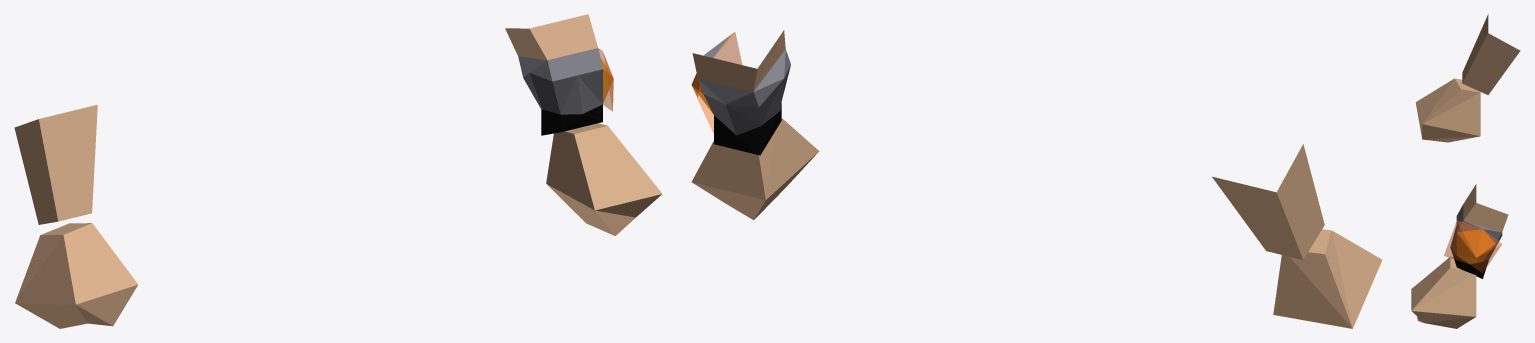
File: player_tormented_bracelet.glb
3 views of the same model, side by side, from view 1: azimuth 30°, elevation 25°; view 2: azimuth 150°, elevation 25°; view 3: azimuth 270°, elevation 25° (orthographic). The views are drawn at different scales.
Size of the model in its own units: 71.07 by 24.3 by 16.85.
2 materials, 2 textured.
